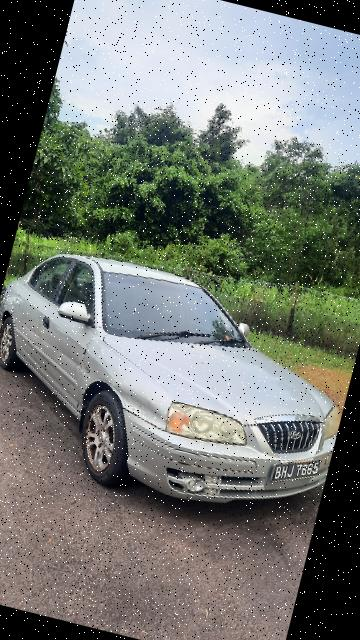License_Plate: (260, 443, 332, 500)
car: (1, 235, 360, 540)
